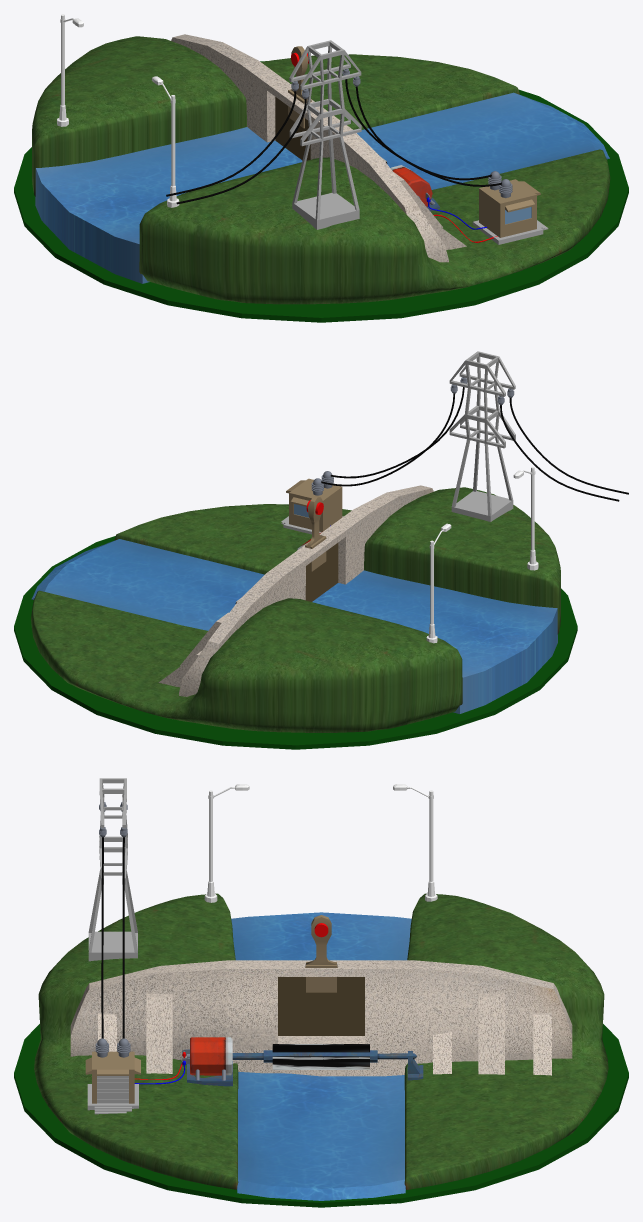
Rendered from funcionELECTRICA_PRUEBA.glb.
3 views of the same model, one above another, from view 1: azimuth 30°, elevation 25°; view 2: azimuth 150°, elevation 25°; view 3: azimuth 270°, elevation 25° (orthographic). The views are drawn at different scales.
Parts seen in each view (by area): view 1: montana, agua3, suelo, agua4, PRESA, pCube42, pCube67, polySurface3, lampara1, lampara, pCylinder6, polySurface2 (+4 smaller); view 2: montana, agua3, agua4, suelo, PRESA, pCube42, pCube67, polySurface3, polySurface2, lampara, lampara1; view 3: montana, PRESA, agua4, suelo, agua3, polySurface3, pCube42, pCylinder6, pCube67, polySurface2, pCylinder3, pCube68 (+7 smaller).
Boxes of the visible parts, x1,y1,x2,y2 form: montana: (32, 36, 610, 304); agua3: (35, 127, 302, 283); suelo: (14, 61, 628, 322); agua4: (357, 92, 609, 189); PRESA: (171, 34, 466, 262); pCube42: (289, 40, 361, 229); pCube67: (479, 179, 540, 237); polySurface3: (275, 97, 310, 160); lampara1: (152, 76, 179, 207); lampara: (57, 14, 83, 126); pCylinder6: (390, 165, 432, 206); polySurface2: (288, 46, 311, 128); montana: (31, 487, 560, 732); agua3: (312, 570, 557, 713); agua4: (31, 539, 264, 630); suelo: (14, 536, 577, 749); PRESA: (158, 485, 433, 696); pCube42: (449, 351, 515, 521); pCube67: (286, 478, 342, 531); polySurface3: (305, 542, 338, 601); polySurface2: (305, 496, 326, 571); lampara: (426, 523, 451, 643); lampara1: (513, 466, 538, 570); montana: (34, 893, 608, 1189); PRESA: (70, 960, 572, 1076); agua4: (237, 1072, 405, 1200); suelo: (14, 1024, 628, 1207); agua3: (231, 912, 411, 960); polySurface3: (278, 966, 364, 1035); pCube42: (88, 778, 137, 961); pCylinder6: (190, 1037, 232, 1075); pCube67: (85, 1051, 140, 1103); polySurface2: (306, 915, 336, 992); pCylinder3: (232, 1050, 416, 1062); pCube68: (97, 1076, 128, 1103).
Size of what is drawn, in the model's own units: 0.3938 by 0.1751 by 0.3938.
15 materials, 2 textured.
